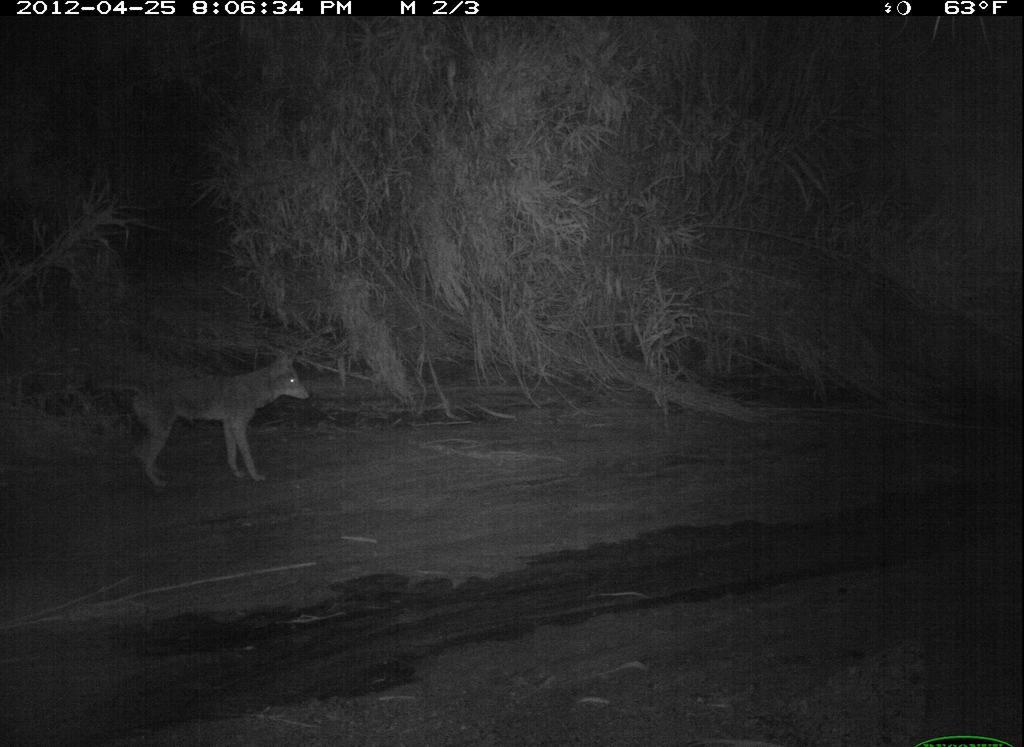coyote: (89, 344, 324, 497)
